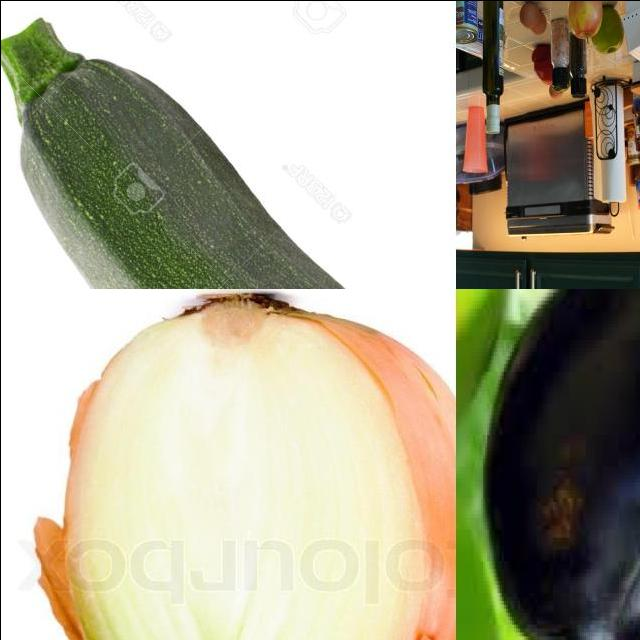bell_pepper: (571, 34, 587, 100), (532, 43, 554, 88)
egg: (519, 1, 538, 30), (533, 11, 547, 38)
eggplant: (488, 289, 640, 640)
onion: (65, 295, 456, 640)
zucchini: (1, 23, 456, 289)
